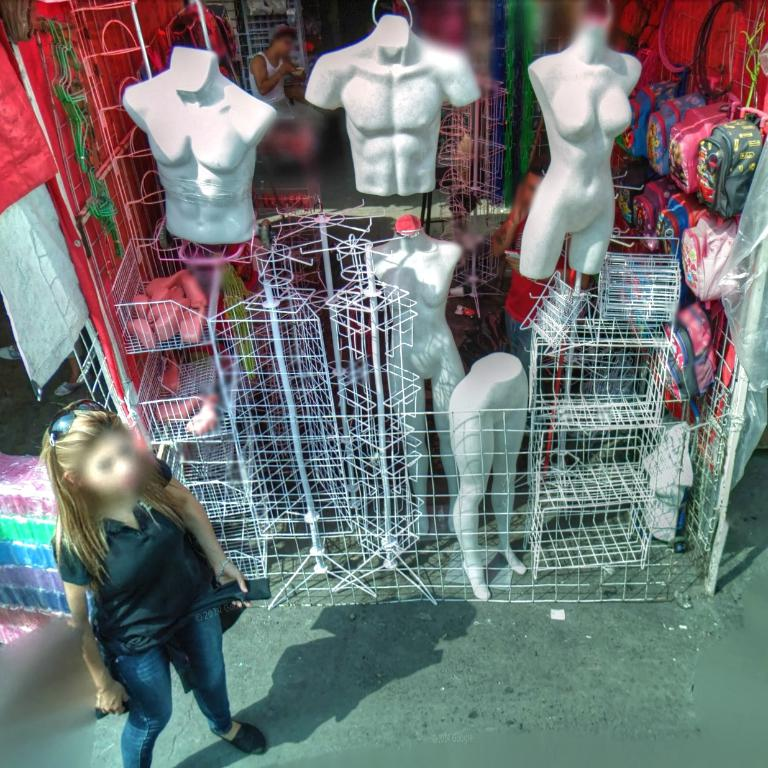Footwear: (217, 724, 267, 756)
